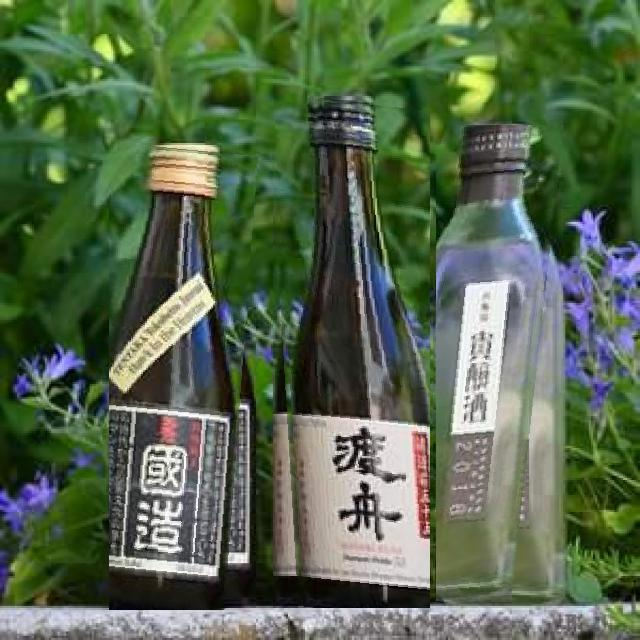Glass: (268, 94, 430, 608), (109, 142, 258, 610), (436, 125, 565, 606)
